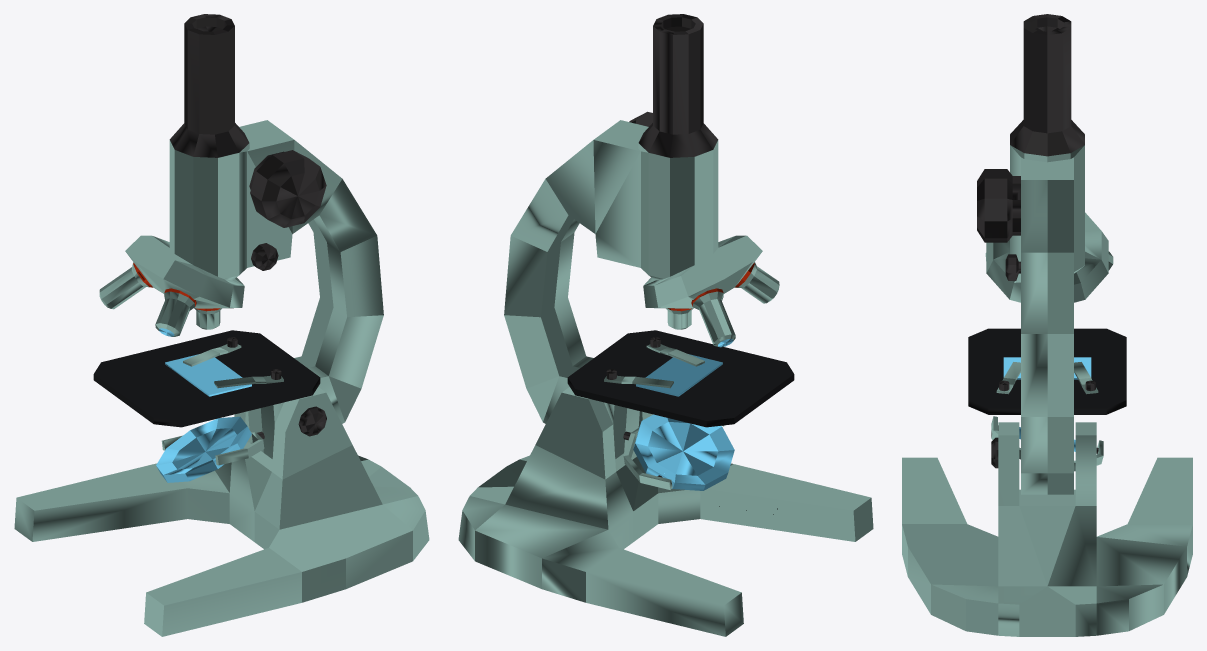
Rendered from microscope.fbx.
3 views of the same model, side by side, from view 1: azimuth 30°, elevation 25°; view 2: azimuth 150°, elevation 25°; view 3: azimuth 270°, elevation 25° (orthographic).
Visible parts, largest first — view 1: Microscope; view 2: Microscope; view 3: Microscope.
Boxes of the visible parts, left/top/right/bottom form: Microscope: left=14, top=14, right=429, bottom=636; Microscope: left=458, top=14, right=873, bottom=636; Microscope: left=902, top=14, right=1192, bottom=636.
Size of the model in its own units: 22.4 by 36.32 by 18.38.
1 material, 1 textured.
